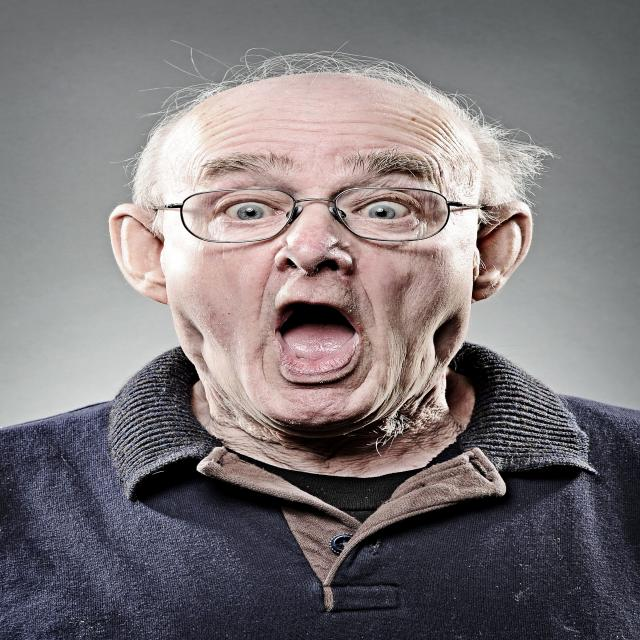earlobe: (470, 275, 500, 304), (141, 277, 169, 305)
eye: (221, 200, 281, 221), (355, 199, 412, 221)
nose: (273, 257, 354, 295)
wholeear: (471, 200, 534, 304), (109, 203, 169, 304)
